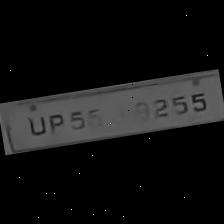2: (148, 94, 172, 120)
5: (64, 106, 90, 132), (85, 102, 108, 130), (184, 90, 210, 114), (167, 92, 190, 118)
P: (44, 110, 68, 136)
U: (22, 111, 48, 137)
